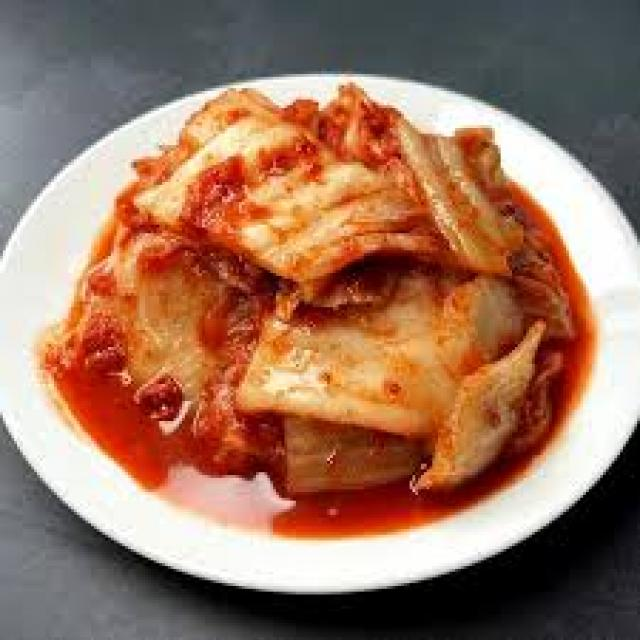kimchi: (88, 82, 552, 490)
